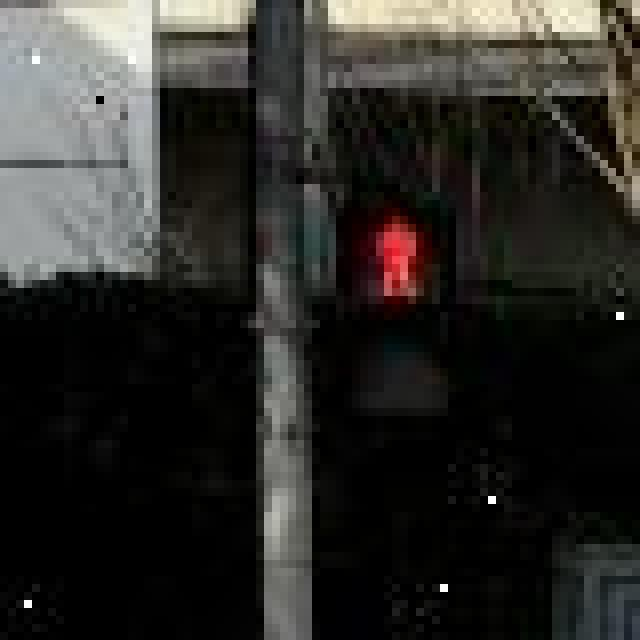redlight: (320, 176, 448, 432)
